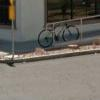Bicycle: (34, 17, 84, 52)
